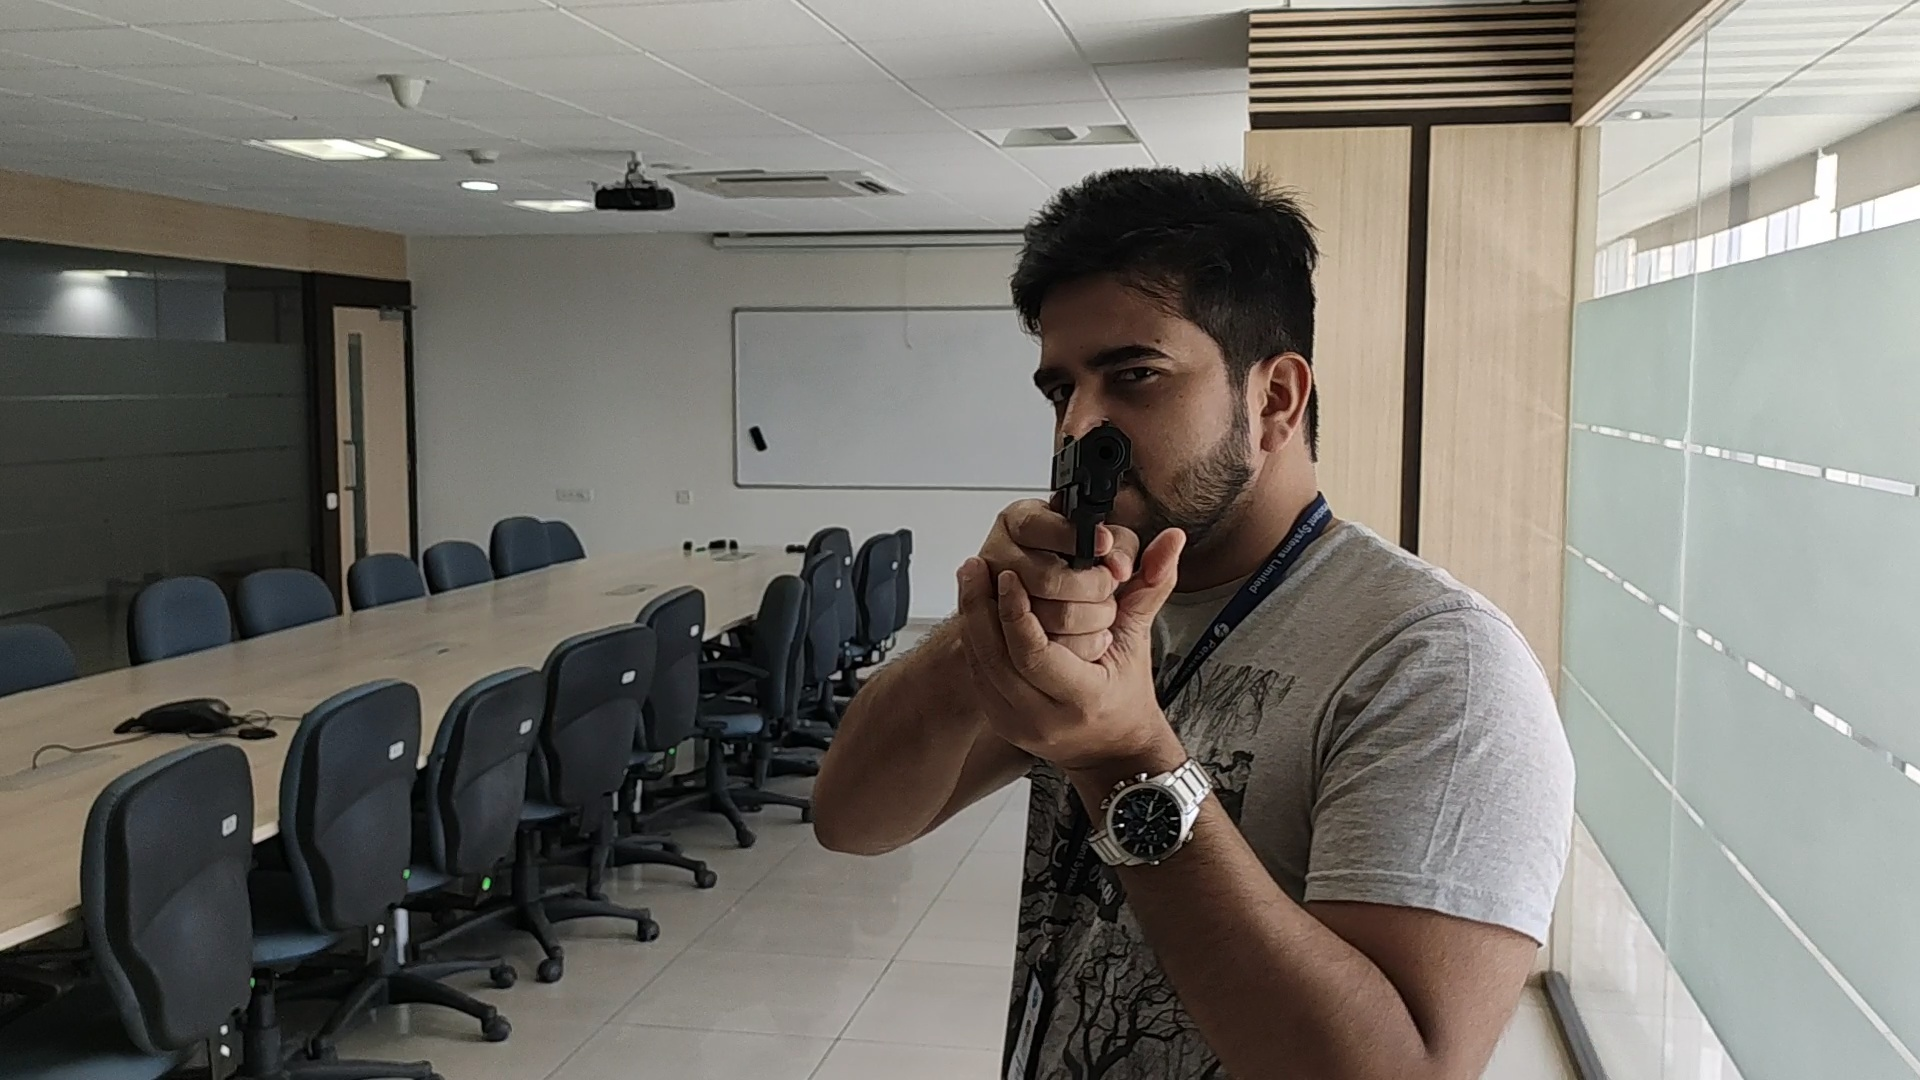gun: (1047, 423, 1133, 535)
